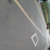others: (14, 1, 48, 46)
